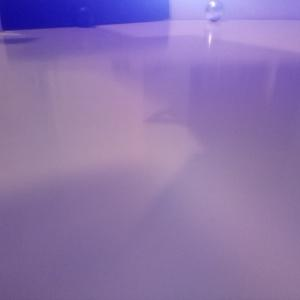alive_ball: (204, 1, 224, 21)
dead_ball: (73, 5, 95, 27)
